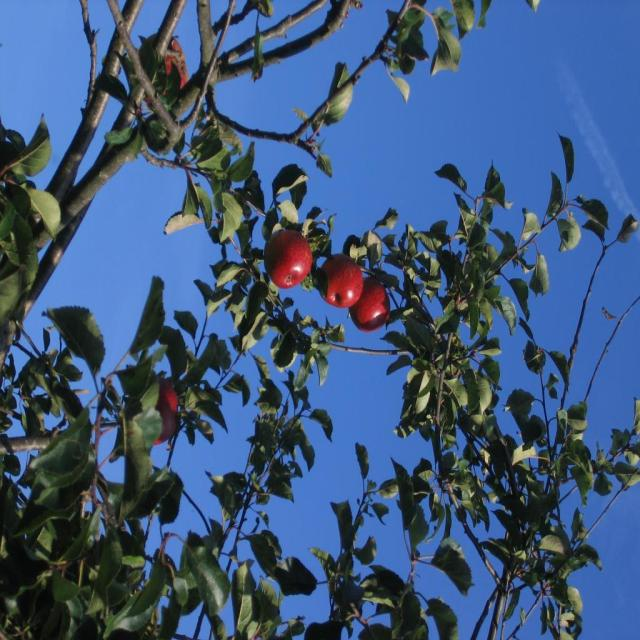Healty Apple: (143, 37, 190, 108), (267, 222, 310, 288), (320, 253, 361, 311), (350, 278, 390, 333), (152, 382, 179, 446)
